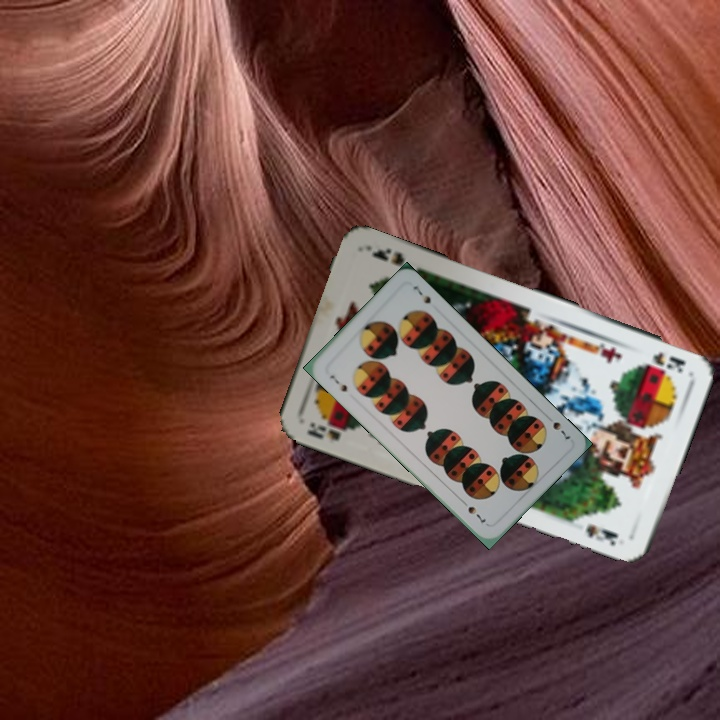S7: (549, 418, 573, 442), (326, 371, 350, 395)
SK: (303, 417, 358, 443), (649, 348, 688, 376)
